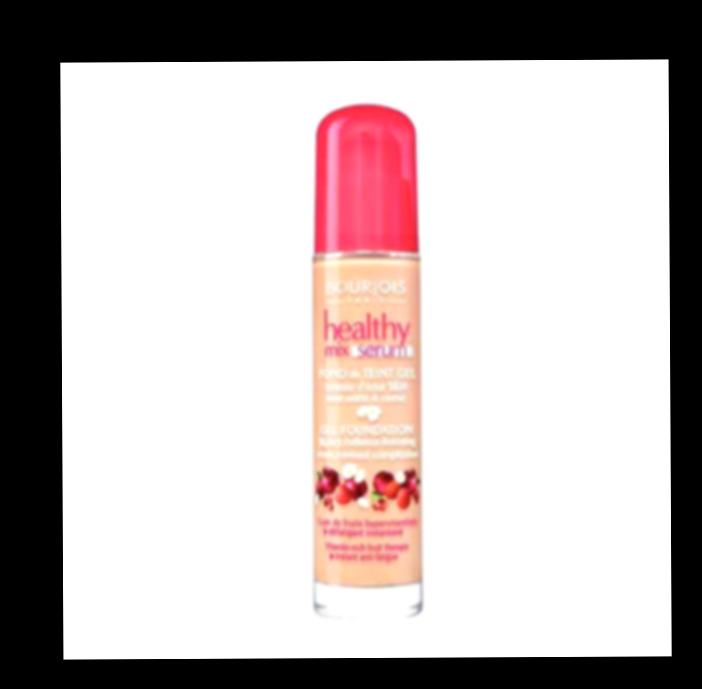cosmetic: (307, 103, 423, 614)
